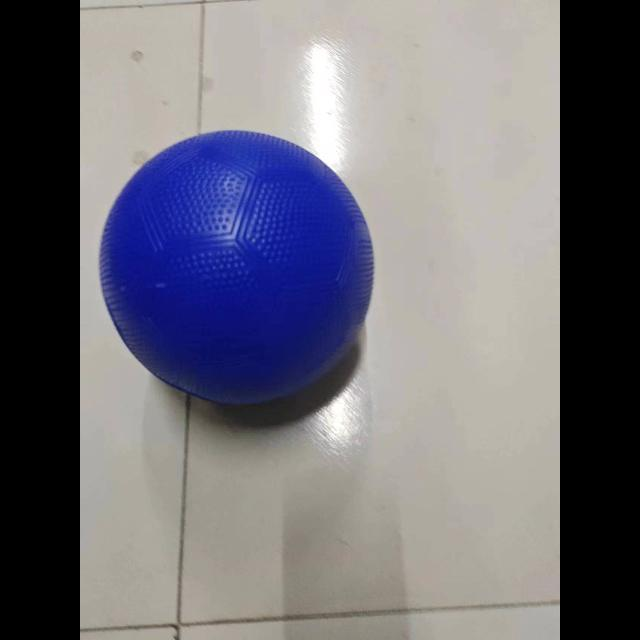B: (94, 122, 380, 414)
